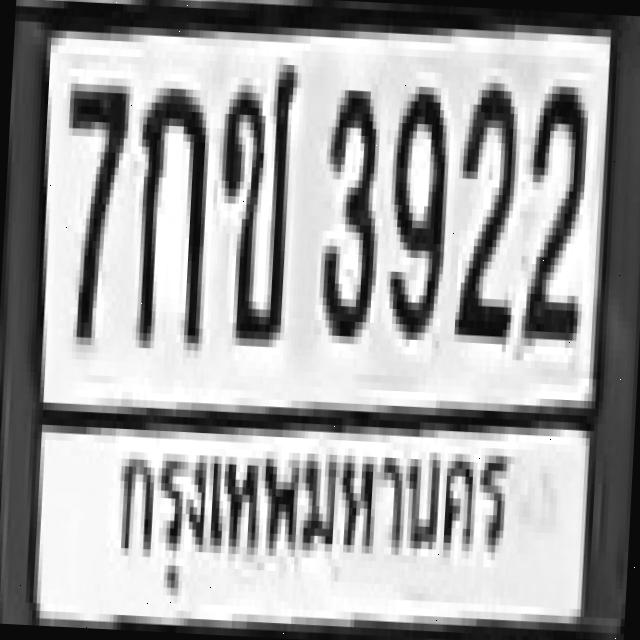10GorGai: (128, 80, 208, 343)
19ChorChang: (210, 54, 295, 340)
2: (450, 74, 520, 337), (518, 78, 586, 334)
3: (314, 82, 382, 338)
7: (54, 76, 127, 339)
9: (384, 79, 449, 334)
Bangkok: (108, 418, 510, 583)
